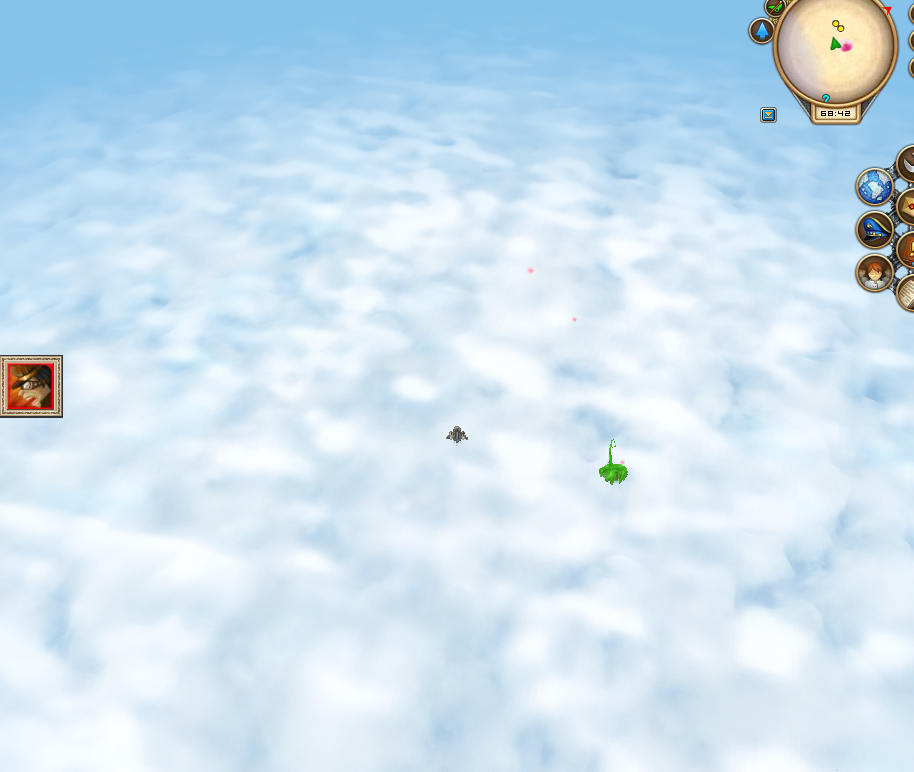dandelion-full: (595, 438, 632, 487)
fluff: (525, 262, 535, 278), (569, 315, 580, 325)
